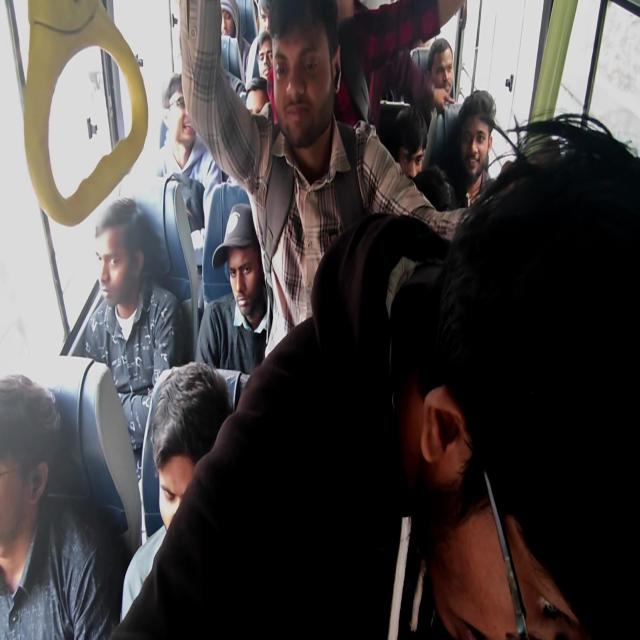person: (439, 190, 640, 618), (153, 398, 237, 543), (203, 214, 280, 346), (0, 398, 61, 551), (282, 12, 344, 128), (92, 218, 162, 316), (156, 66, 208, 140), (461, 110, 498, 191), (206, 0, 247, 59), (247, 88, 286, 143), (404, 122, 436, 182), (428, 44, 454, 92), (258, 29, 282, 74), (259, 4, 281, 35)
